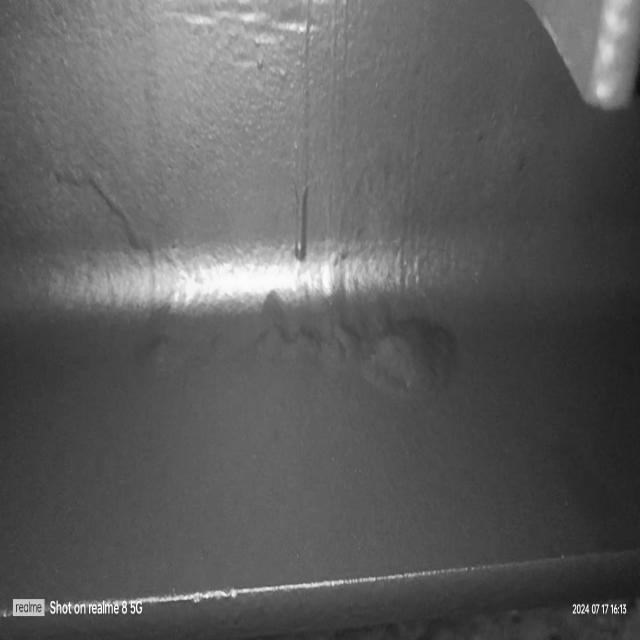paint drips: (44, 160, 174, 269), (287, 0, 314, 265)
